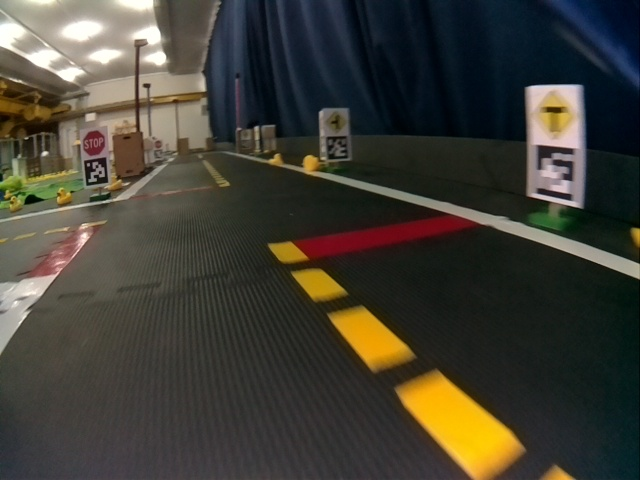Duckie: (57, 187, 72, 204), (304, 155, 317, 170), (9, 196, 21, 212), (271, 155, 281, 165)
Intersection sign: (532, 89, 573, 140), (325, 111, 347, 133)
QR code: (531, 147, 578, 203), (85, 158, 108, 185), (327, 138, 350, 159)
Stop sign: (82, 129, 106, 156)
